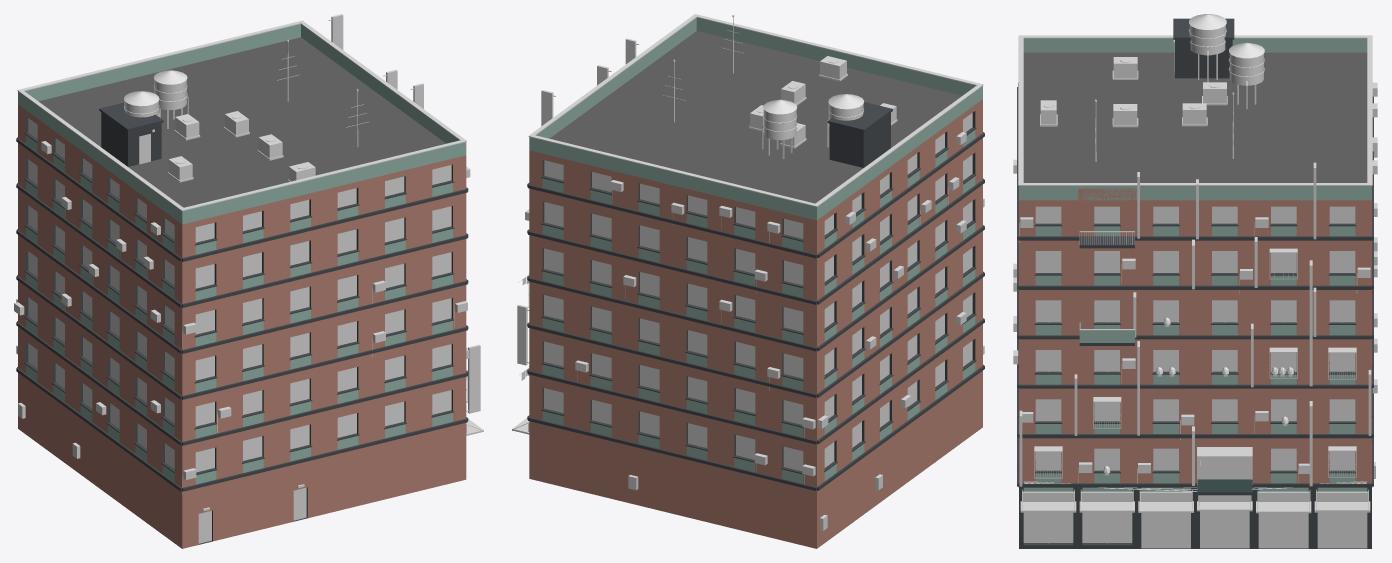
File: Plaza_Block_08.fbx
The picture shows the model from 3 angles, left to right: view 1: azimuth 30°, elevation 25°; view 2: azimuth 150°, elevation 25°; view 3: azimuth 270°, elevation 25°; orthographic projection. The views are drawn at different scales.
Visible parts, largest first — view 1: Plaza_Block_08_LOD0; view 2: Plaza_Block_08_LOD0; view 3: Plaza_Block_08_LOD0.
Part boxes in pixels (box(x1,y1,x2,y2)): Plaza_Block_08_LOD0: box(14, 14, 483, 548); Plaza_Block_08_LOD0: box(512, 14, 984, 548); Plaza_Block_08_LOD0: box(1013, 14, 1377, 548).
Size of what is drawn, in the model's own units: 24.51 by 28.53 by 22.73.
